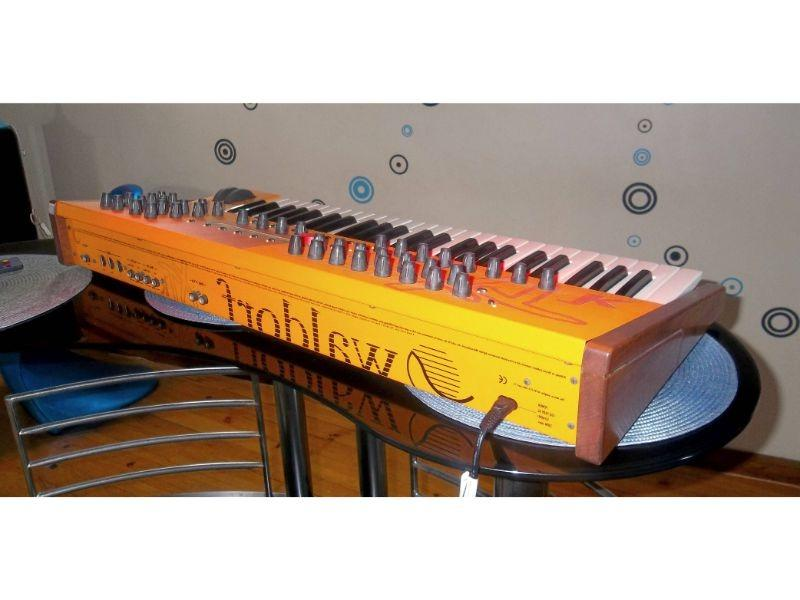synthesizer: (38, 161, 747, 471)
